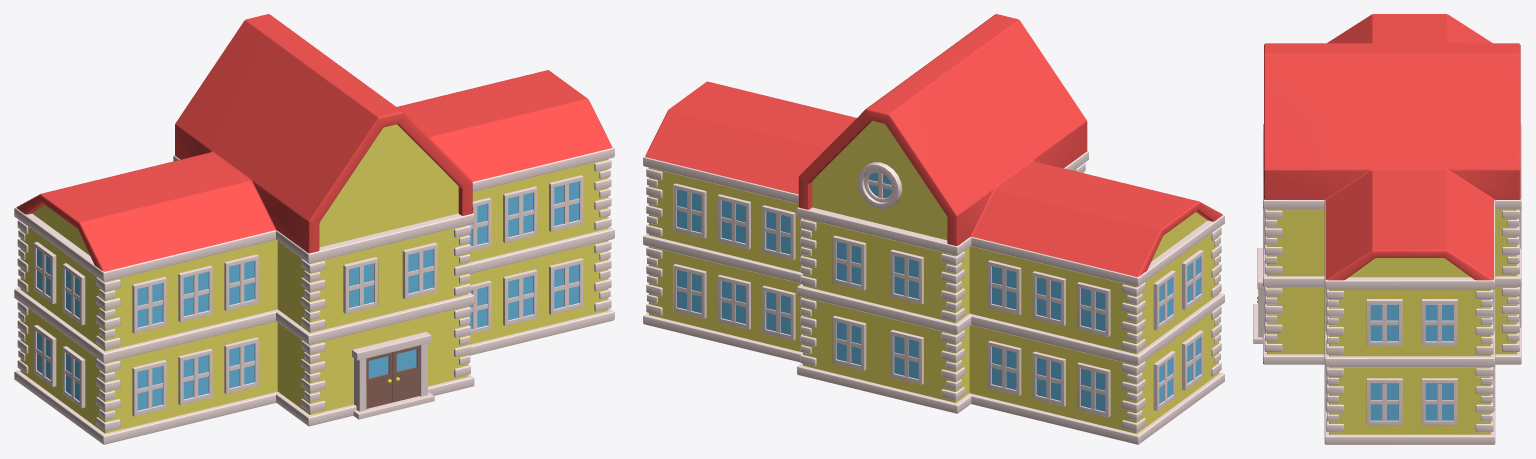
The model's file is Public_8_School_1.glb.
3 views of the same model, side by side, from view 1: azimuth 30°, elevation 25°; view 2: azimuth 150°, elevation 25°; view 3: azimuth 270°, elevation 25° (orthographic). The views are drawn at different scales.
Parts seen in each view (by area): view 1: Public_8_School_1; view 2: Public_8_School_1; view 3: Public_8_School_1.
Boxes of the visible parts, x1=… form: Public_8_School_1: x1=14, y1=14, x2=614, y2=444; Public_8_School_1: x1=643, y1=14, x2=1224, y2=444; Public_8_School_1: x1=1253, y1=14, x2=1521, y2=444.
Bounding box in the file's own units: 24.5 × 13.35 × 11.68.
Materials: 1 (1 with a texture image).
